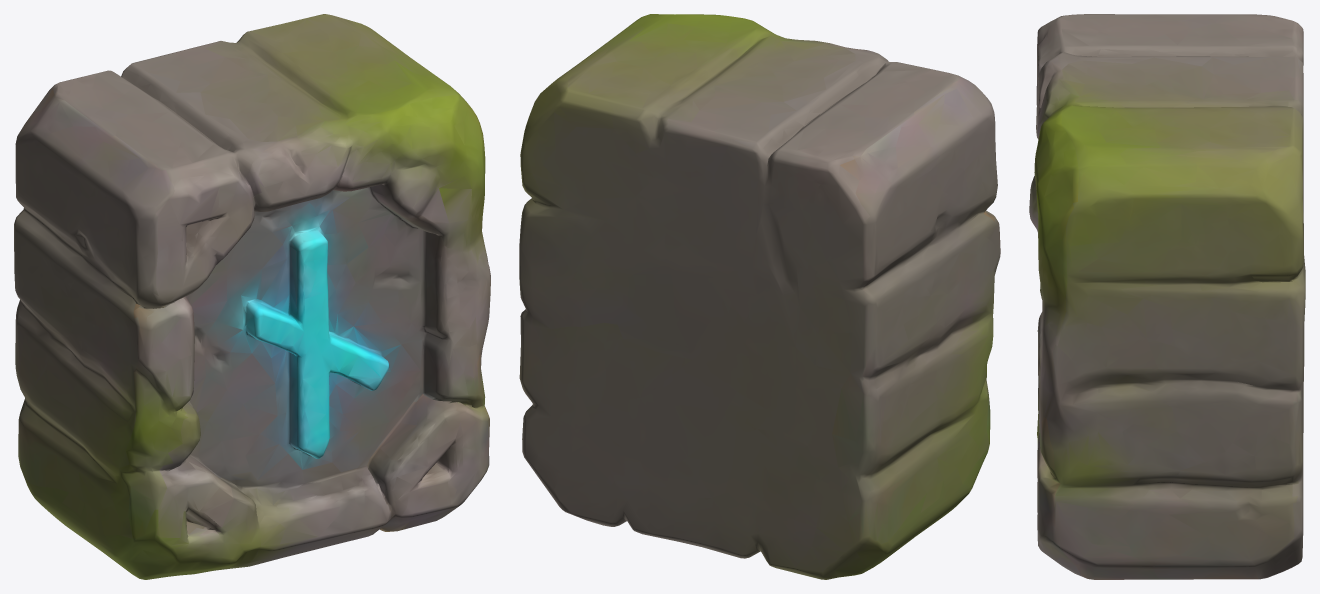
The model's file is bloque_runa_cian.glb.
3 renders of one model, left to right at view 1: azimuth 30°, elevation 25°; view 2: azimuth 150°, elevation 25°; view 3: azimuth 270°, elevation 25°, orthographic.
Parts seen in each view (by area): view 1: bloque_runa_cian_malla; view 2: bloque_runa_cian_malla; view 3: bloque_runa_cian_malla.
Boxes of the visible parts, box(x1,y1,x2,y2) form: bloque_runa_cian_malla: box(14, 14, 490, 579); bloque_runa_cian_malla: box(519, 14, 1000, 579); bloque_runa_cian_malla: box(1029, 14, 1305, 579).
Size of the model in its own units: 0.1548 by 0.1776 by 0.1039.
Materials: 1 (1 with a texture image).
